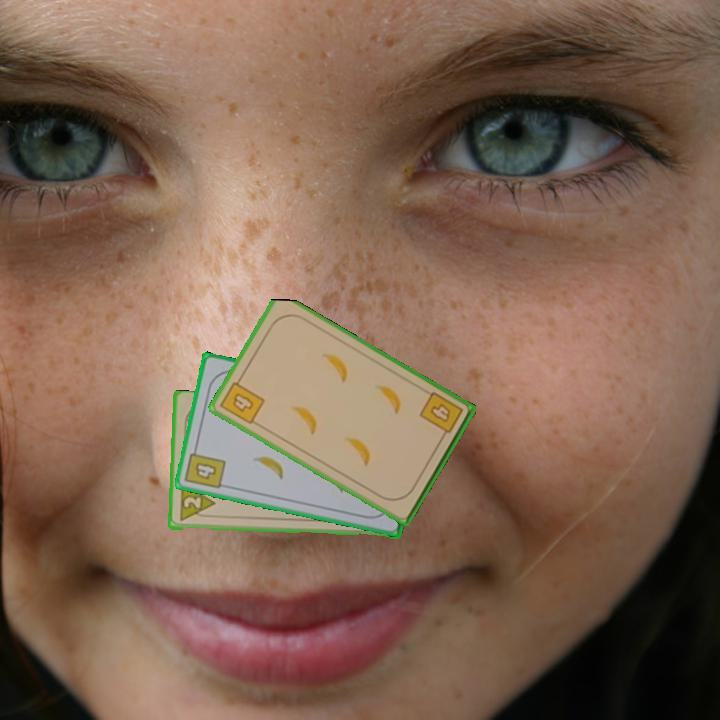2p: (180, 493, 204, 513)
4b: (216, 373, 268, 427), (416, 388, 466, 443), (181, 442, 228, 492)
